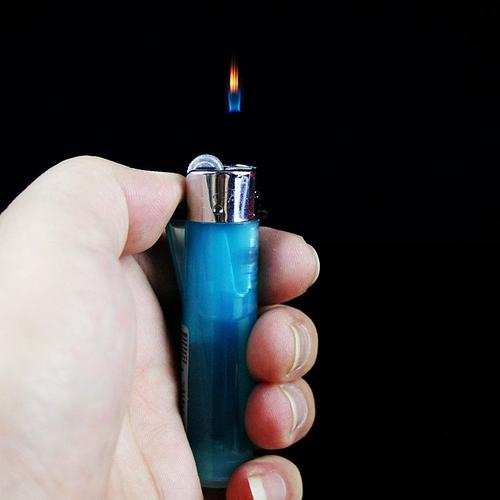fire: (212, 55, 255, 142)
